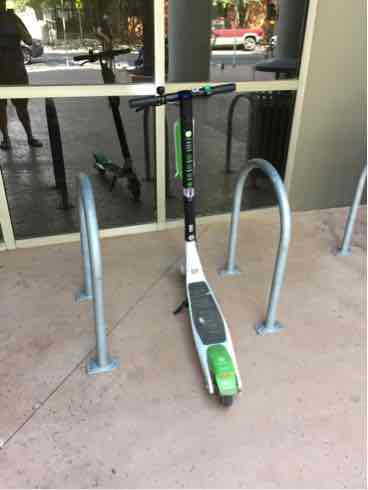scooter: (114, 82, 266, 408)
